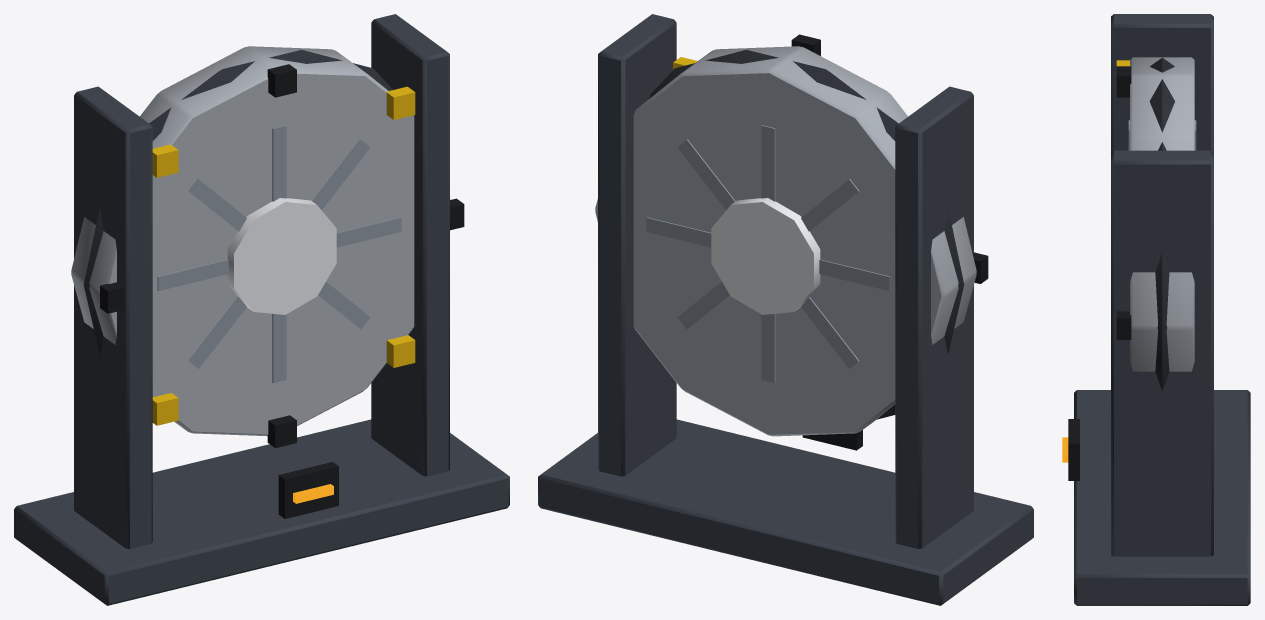
File: turbine_flywheel.glb
3 renders of one model, left to right at view 1: azimuth 30°, elevation 25°; view 2: azimuth 150°, elevation 25°; view 3: azimuth 270°, elevation 25°, orthographic. The views are drawn at different scales.
Parts seen in each view (by area): view 1: turbine_flywheel; view 2: turbine_flywheel; view 3: turbine_flywheel.
Boxes of the visible parts, <box> form: turbine_flywheel: <box>14,14,509,605</box>; turbine_flywheel: <box>538,14,1033,605</box>; turbine_flywheel: <box>1062,14,1250,605</box>.
Bounding box in the file's own units: 1.5 × 1.66 × 0.64.
